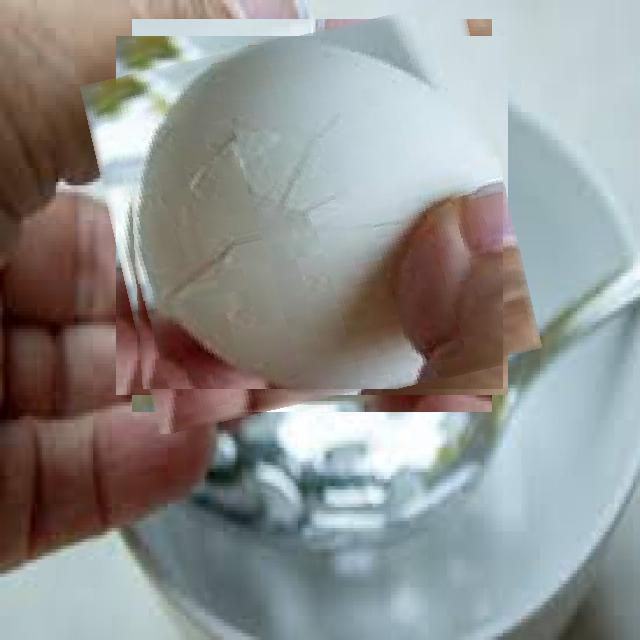biodegradable: (133, 41, 503, 389)
